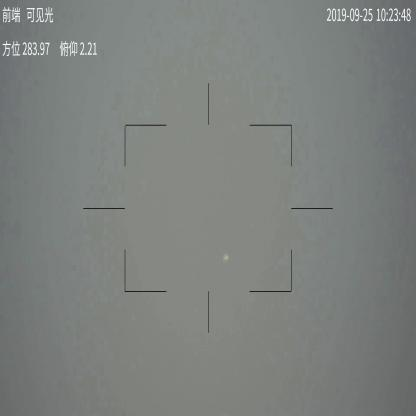uav: (222, 252, 230, 263)
